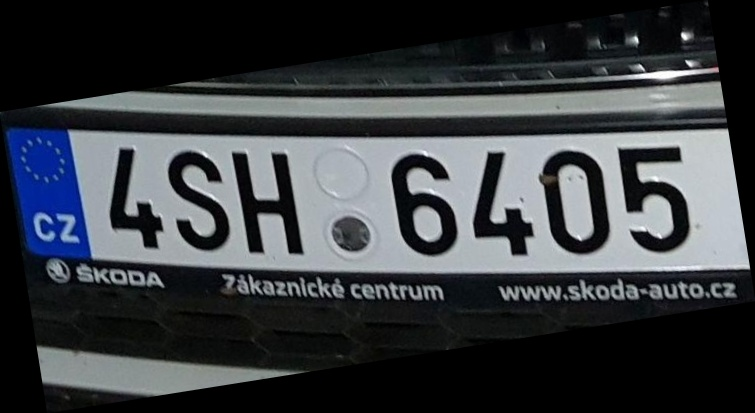character: (611, 138, 694, 256), (532, 144, 614, 259), (227, 145, 306, 259), (468, 148, 540, 261), (387, 150, 459, 257), (163, 146, 232, 253), (103, 144, 165, 253)
